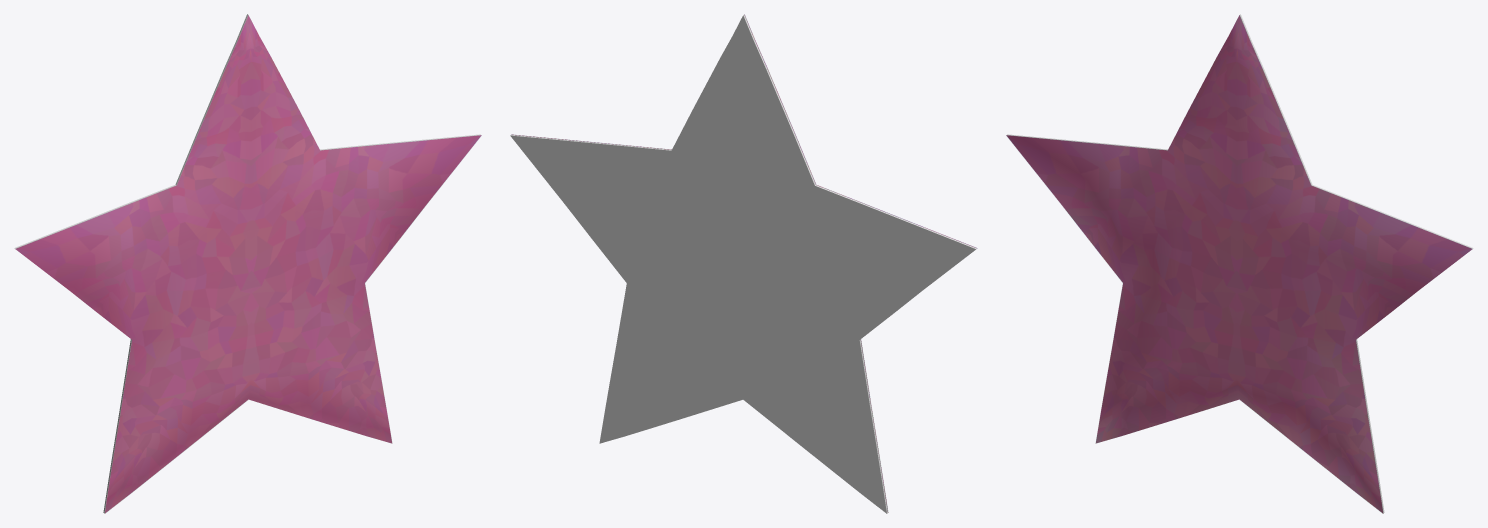
Rendered from hosi_pink_holo.glb.
3 views of the same model, side by side, from view 1: azimuth 30°, elevation 25°; view 2: azimuth 150°, elevation 25°; view 3: azimuth 330°, elevation 25° (orthographic).
Visible parts, largest first — view 1: Plane.001, Plane.002, Plane; view 2: Plane, Plane.001; view 3: Plane.001, Plane.002, Plane.
Boxes of the visible parts, x1,y1,x2,y2 form: Plane.001: (15,15,481,513); Plane.002: (16,15,481,513); Plane: (14,14,480,513); Plane: (510,14,976,513); Plane.001: (512,14,976,512); Plane.001: (1006,15,1472,513); Plane.002: (1006,15,1471,513); Plane: (1007,14,1473,513).
Size of the model in its own units: 1.95 by 1.85 by 0.0288.
2 materials, 1 textured.
